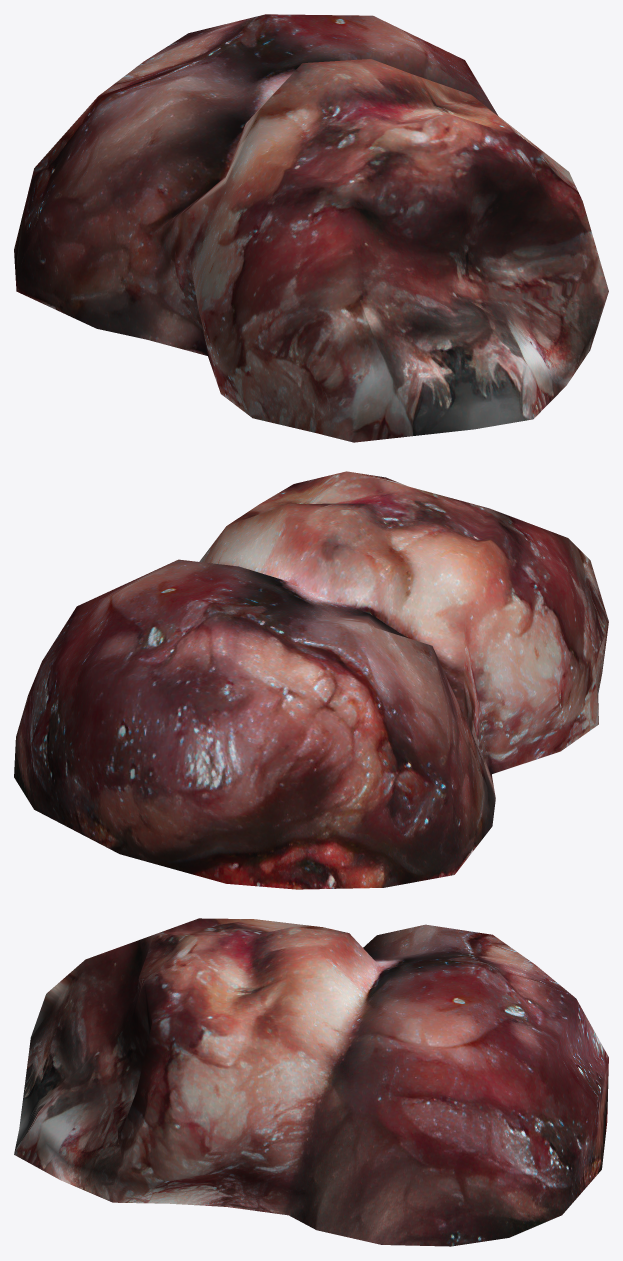
The model's file is gore_2.fbx.
3 renders of one model, top to bottom at view 1: azimuth 30°, elevation 25°; view 2: azimuth 150°, elevation 25°; view 3: azimuth 270°, elevation 25°, orthographic. The views are drawn at different scales.
Parts seen in each view (by area): view 1: gore_2; view 2: gore_2; view 3: gore_2.
Part boxes in pixels (x1,y1,x2,y2): gore_2: (14,14,608,442); gore_2: (14,471,608,889); gore_2: (14,918,608,1246).
Size of the model in its own units: 13.42 by 6.84 by 17.06.
1 material, 1 textured.
